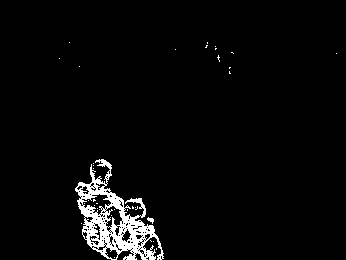person: (76, 157, 125, 260), (112, 195, 164, 260)
